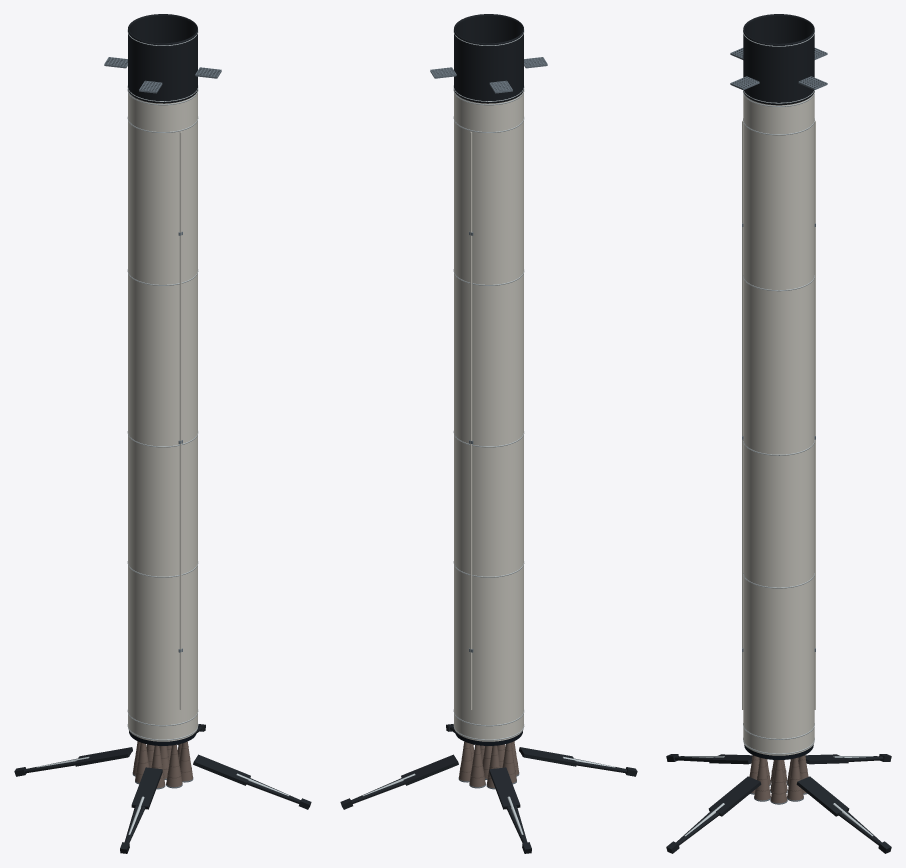
Rendered from falcon9_booster_landing.glb.
3 renders of one model, left to right at view 1: azimuth 30°, elevation 25°; view 2: azimuth 150°, elevation 25°; view 3: azimuth 270°, elevation 25°, orthographic.
Parts seen in each view (by area): view 1: falcon9_stage_1.mesh_Warm_white_enamel, falcon9_interstage.mesh_Carbon_composite, falcon9_stage_1.landing_leg_04.shell.mesh_Carbon_composite, falcon9_stage_1.landing_leg_01.shell.mesh_Carbon_composite, falcon9_stage_1.landing_leg_03.shell.mesh_Carbon_composite, falcon9_stage_1.mesh_Satin_aluminum; view 2: falcon9_stage_1.mesh_Warm_white_enamel, falcon9_interstage.mesh_Carbon_composite, falcon9_stage_1.landing_leg_03.shell.mesh_Carbon_composite, falcon9_stage_1.landing_leg_02.shell.mesh_Carbon_composite, falcon9_stage_1.landing_leg_04.shell.mesh_Carbon_composite, falcon9_stage_1.mesh_Satin_aluminum; view 3: falcon9_stage_1.mesh_Warm_white_enamel, falcon9_interstage.mesh_Carbon_composite, falcon9_stage_1.landing_leg_01.shell.mesh_Carbon_composite, falcon9_stage_1.landing_leg_02.shell.mesh_Carbon_composite, falcon9_stage_1.mesh_Satin_aluminum, falcon9_stage_1.landing_leg_03.shell.mesh_Carbon_composite, falcon9_stage_1.landing_leg_04.shell.mesh_Carbon_composite, falcon9_stage_1.merlin_04.bell.mesh_Heat-stained_alloy, falcon9_stage_1.merlin_03.bell.mesh_Heat-stained_alloy, falcon9_stage_1.merlin_05.bell.mesh_Heat-stained_alloy.
Part boxes in pixels (x1,y1,x2,y2): falcon9_stage_1.mesh_Warm_white_enamel: (128,90,197,741); falcon9_interstage.mesh_Carbon_composite: (128,14,197,103); falcon9_stage_1.landing_leg_04.shell.mesh_Carbon_composite: (120,767,162,853); falcon9_stage_1.landing_leg_01.shell.mesh_Carbon_composite: (193,754,311,809); falcon9_stage_1.landing_leg_03.shell.mesh_Carbon_composite: (14,747,132,776); falcon9_stage_1.mesh_Satin_aluminum: (127,88,198,740); falcon9_stage_1.mesh_Warm_white_enamel: (454,90,523,741); falcon9_interstage.mesh_Carbon_composite: (454,14,523,103); falcon9_stage_1.landing_leg_03.shell.mesh_Carbon_composite: (489,767,531,853); falcon9_stage_1.landing_leg_02.shell.mesh_Carbon_composite: (340,754,458,809); falcon9_stage_1.landing_leg_04.shell.mesh_Carbon_composite: (519,747,637,776); falcon9_stage_1.mesh_Satin_aluminum: (453,88,524,740); falcon9_stage_1.mesh_Warm_white_enamel: (742,91,815,755); falcon9_interstage.mesh_Carbon_composite: (743,14,814,105); falcon9_stage_1.landing_leg_01.shell.mesh_Carbon_composite: (666,776,761,853); falcon9_stage_1.landing_leg_02.shell.mesh_Carbon_composite: (796,776,891,853); falcon9_stage_1.mesh_Satin_aluminum: (743,90,814,754); falcon9_stage_1.landing_leg_03.shell.mesh_Carbon_composite: (805,754,891,764); falcon9_stage_1.landing_leg_04.shell.mesh_Carbon_composite: (666,754,752,764); falcon9_stage_1.merlin_04.bell.mesh_Heat-stained_alloy: (770,760,787,803); falcon9_stage_1.merlin_03.bell.mesh_Heat-stained_alloy: (754,757,770,800); falcon9_stage_1.merlin_05.bell.mesh_Heat-stained_alloy: (787,757,803,800).
Bounding box in the file's own units: 11.55 × 43.94 × 11.55.
